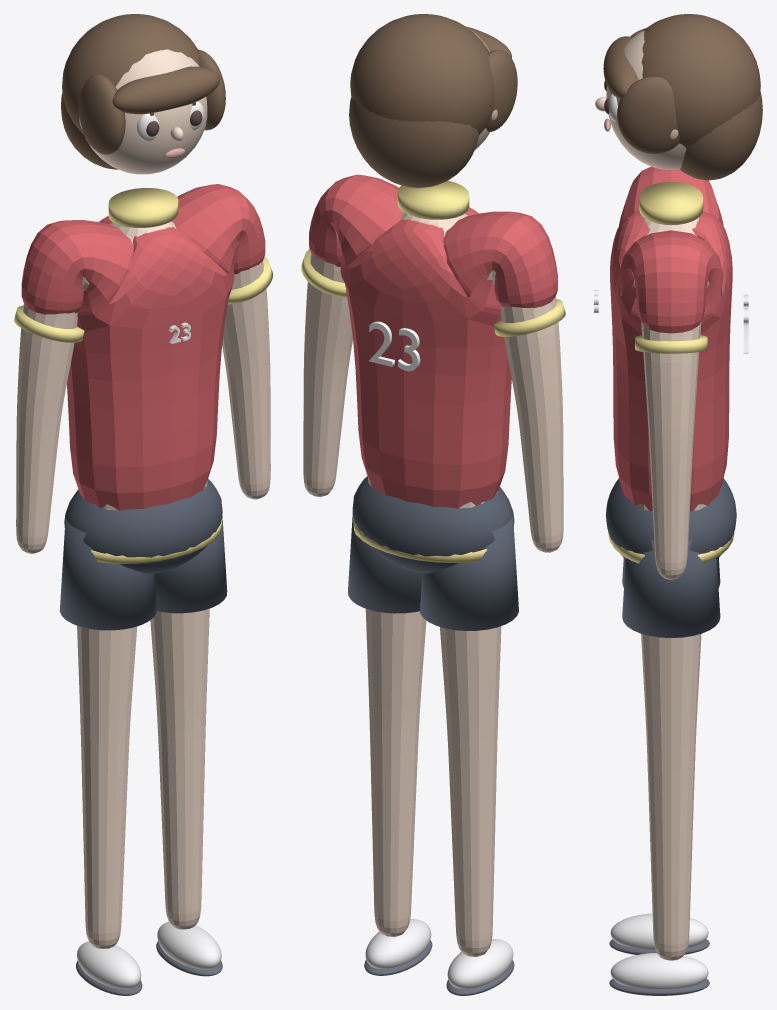
Rendered from athlete_red.glb.
3 renders of one model, left to right at view 1: azimuth 30°, elevation 25°; view 2: azimuth 150°, elevation 25°; view 3: azimuth 270°, elevation 25°, orthographic. The views are drawn at different scales.
Parts seen in each view (by area): view 1: JERSEY, body, shorts_hip, shortleg-1, hair_top, head, shortleg1, hair_fringe, hair_side-1, jcollar, shoe1, shoe-1 (+5 smaller); view 2: JERSEY, body, hair_top, shorts_hip, hair_back, shortleg-1, shortleg1, jcollar, shoe-1, shoe1, hair_side-1, back_num (+3 smaller); view 3: JERSEY, body, hair_top, shortleg1, shorts_hip, hair_side1, hair_back, shoe1, jcollar, head, shoe-1, hair_fringe (+4 smaller).
Part boxes in pixels (x1,y1,x2,y2): JERSEY: (21, 184, 265, 510); body: (16, 221, 270, 948); shorts_hip: (64, 479, 222, 574); shortleg-1: (59, 518, 156, 630); hair_top: (62, 14, 199, 134); head: (86, 49, 207, 174); shortleg1: (154, 495, 227, 613); hair_fringe: (112, 66, 220, 114); hair_side-1: (78, 74, 125, 154); jcollar: (108, 188, 178, 227); shoe1: (157, 921, 221, 969); shoe-1: (77, 941, 141, 989); JERSEY: (309, 174, 557, 508); body: (303, 213, 563, 956); hair_top: (350, 14, 494, 134); shorts_hip: (352, 476, 514, 573); hair_back: (349, 97, 478, 187); shortleg-1: (420, 516, 518, 630); shortleg1: (348, 492, 421, 613); jcollar: (397, 180, 469, 219); shoe-1: (447, 939, 513, 988); shoe1: (365, 919, 431, 968); hair_side-1: (486, 50, 517, 131); back_num: (369, 321, 420, 371); JERSEY: (610, 166, 732, 511); body: (632, 217, 709, 960); hair_top: (641, 14, 760, 147); shortleg1: (622, 539, 720, 637); shorts_hip: (605, 478, 736, 559); hair_side1: (617, 76, 679, 153); hair_back: (680, 91, 762, 180); shoe1: (610, 953, 708, 989); jcollar: (639, 181, 703, 225); head: (606, 31, 686, 169); shoe-1: (610, 913, 708, 949); hair_fringe: (603, 36, 638, 99).
Size of what is drawn, in the model's own units: 1.24 by 4.48 by 0.7215.
